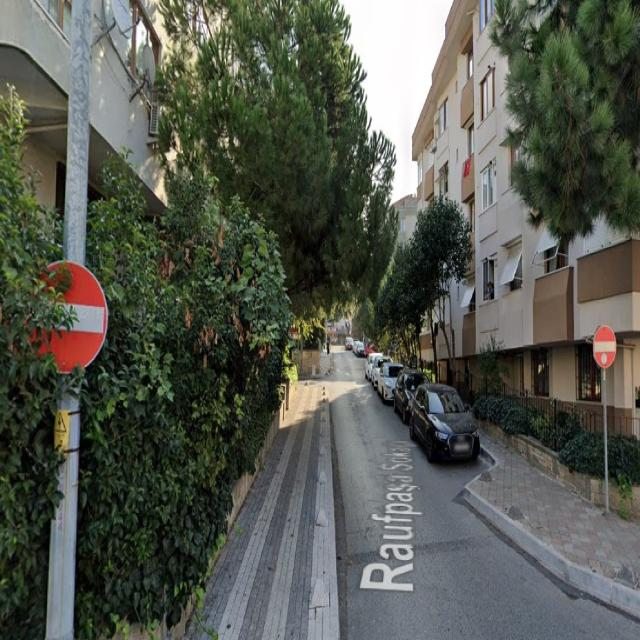girisyok: (26, 262, 108, 376), (594, 326, 616, 367)
